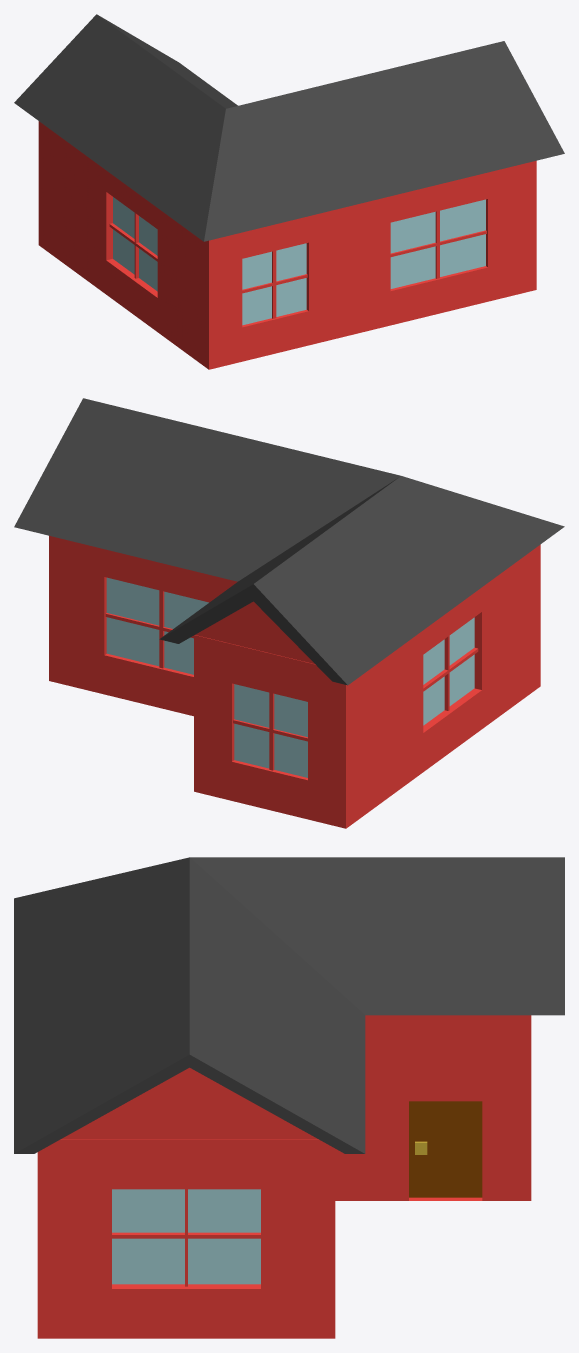
The model's file is LHouse2.gltf.
3 views of the same model, one above another, from view 1: azimuth 30°, elevation 25°; view 2: azimuth 150°, elevation 25°; view 3: azimuth 270°, elevation 25° (orthographic). The views are drawn at different scales.
Parts seen in each view (by area): view 1: L-Shape.001; view 2: L-Shape.001; view 3: L-Shape.001.
Part boxes in pixels (x1,y1,x2,y2): L-Shape.001: (14,14,564,369); L-Shape.001: (14,398,564,828); L-Shape.001: (14,857,564,1338).
Bounding box in the file's own units: 19.29 × 10.5 × 17.57.
